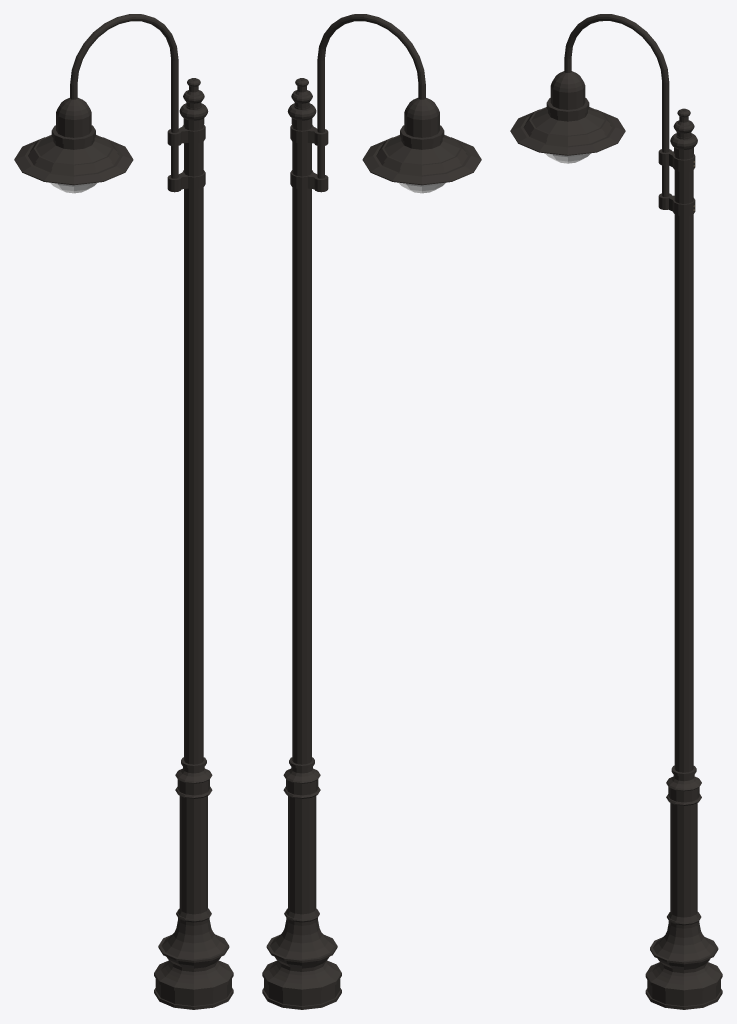
File: street_lamp.glb
The picture shows the model from 3 angles, left to right: view 1: azimuth 30°, elevation 25°; view 2: azimuth 150°, elevation 25°; view 3: azimuth 330°, elevation 25°; orthographic projection. The views are drawn at different scales.
Parts seen in each view (by area): view 1: StreetLight.006; view 2: StreetLight.006; view 3: StreetLight.006.
Part boxes in pixels (x1=…): StreetLight.006: x1=14, y1=14, x2=233, y2=1009; StreetLight.006: x1=262, y1=14, x2=481, y2=1009; StreetLight.006: x1=510, y1=14, x2=722, y2=1009.
Bounding box in the file's own units: 0.7816 × 3.6 × 0.3911.
Materials: 1 (1 with a texture image).
